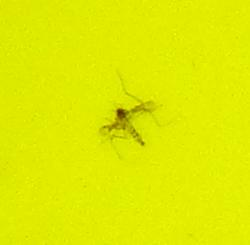Nematocera: (100, 100, 150, 145)
